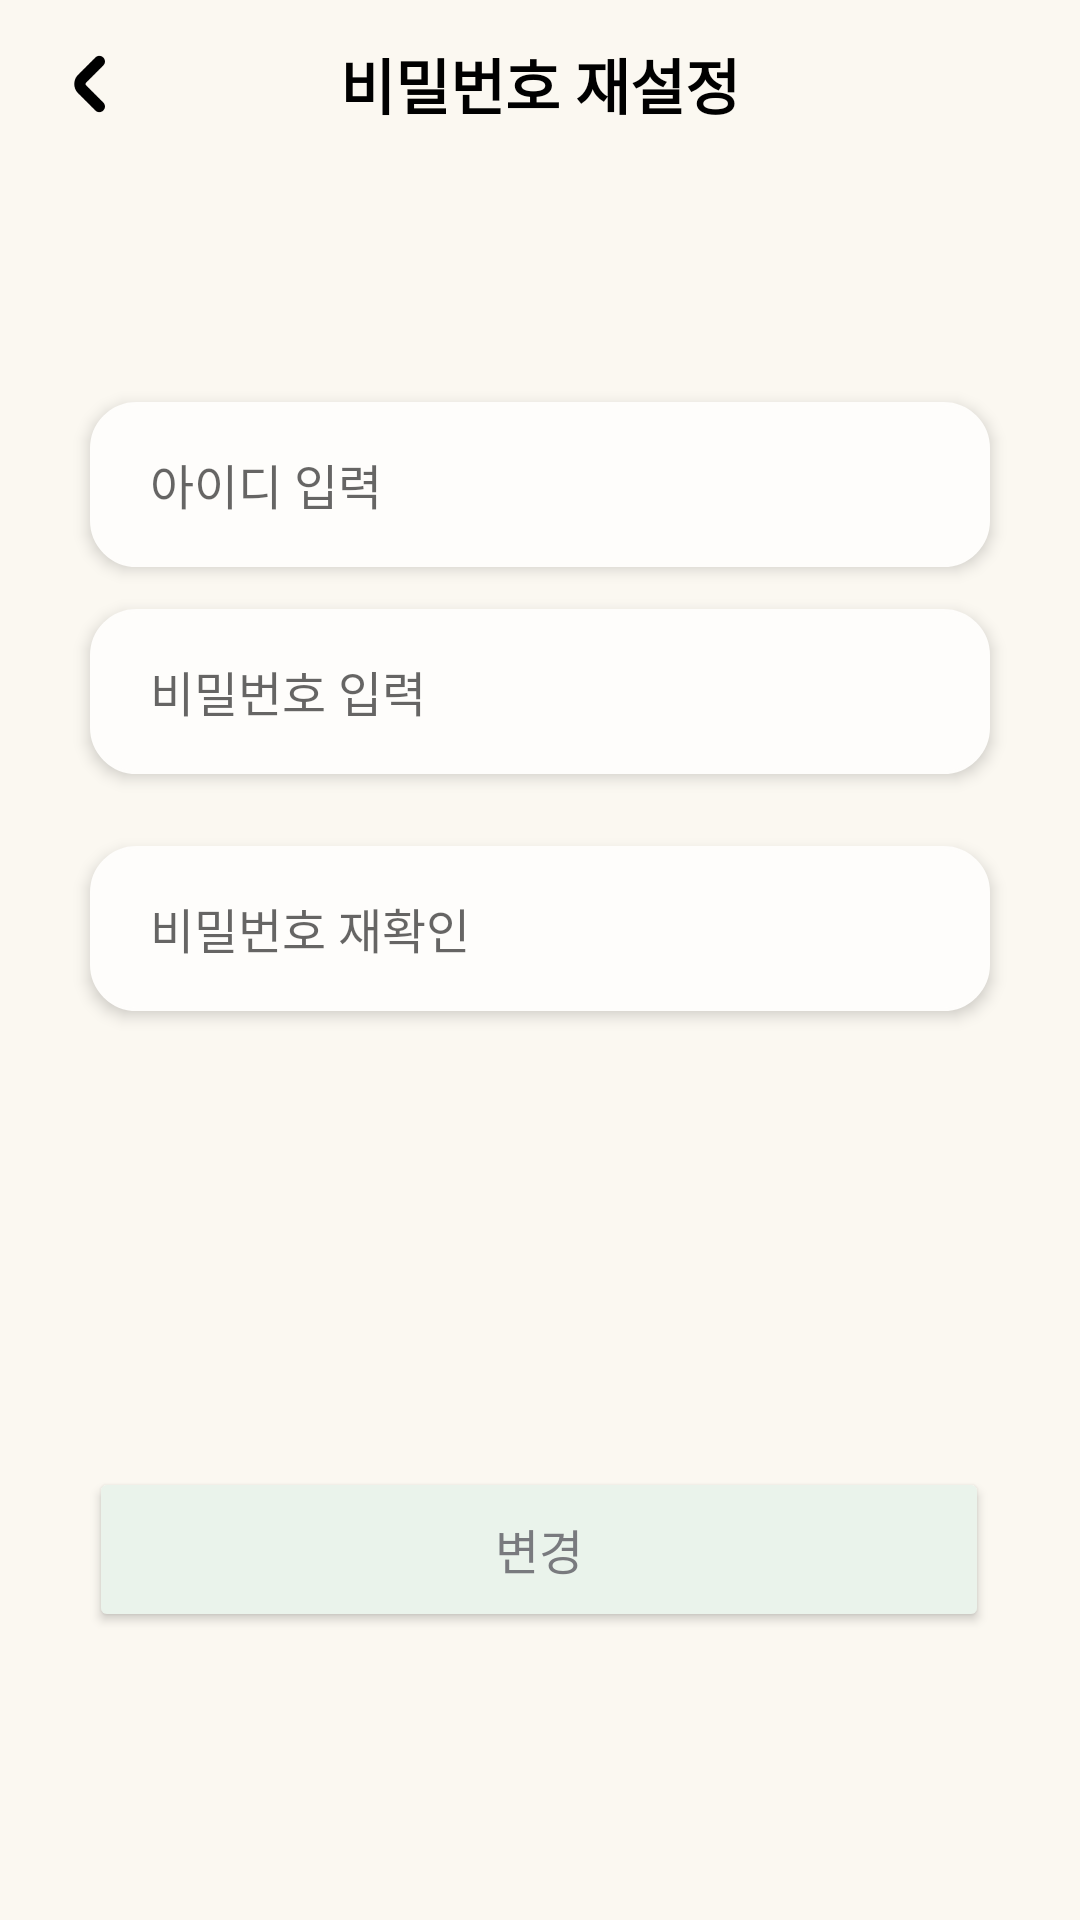

Screen size 1080 × 1920. Icon name, then its center in pixels as [x,y]:
back: [89,84]
